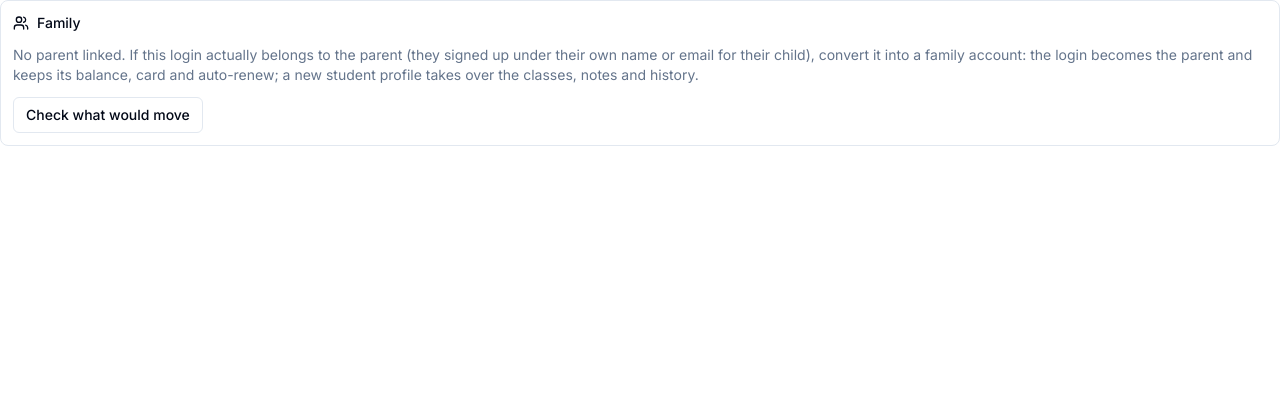
Test: AdminFamilySection › previews, then converts an account into a family
Later steps or results of the test are not shown.
What coordinates should you click on to do the following:
click the button "Check what would move"
I would click on:
 (108, 115)
Its box is [13,97,203,133].
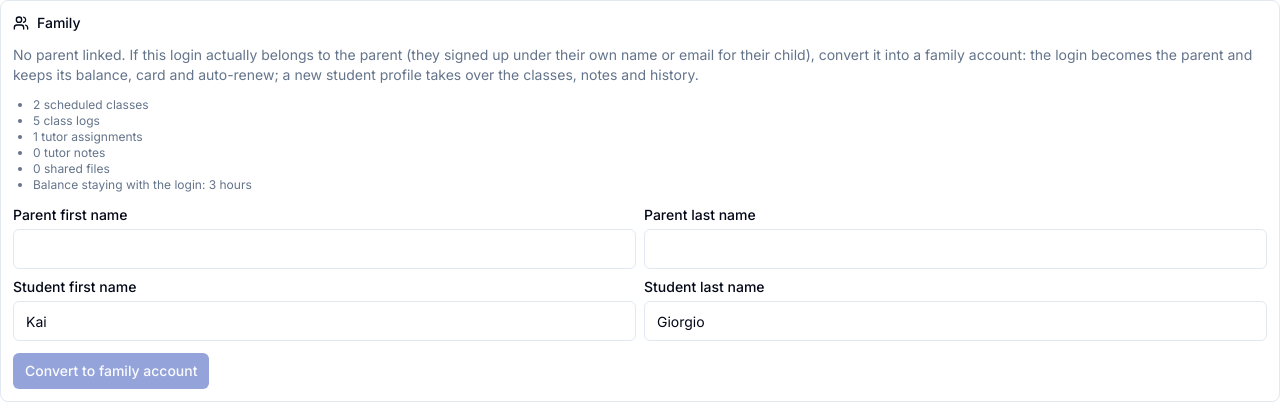
Result: the list item "5 class logs" is shown at [33,113,100,128]
Result: the field labelled "Student first name" holds "Kai" at [13,301,636,341]
Result: the button "Convert to family account" is disabled at [13,353,210,389]
